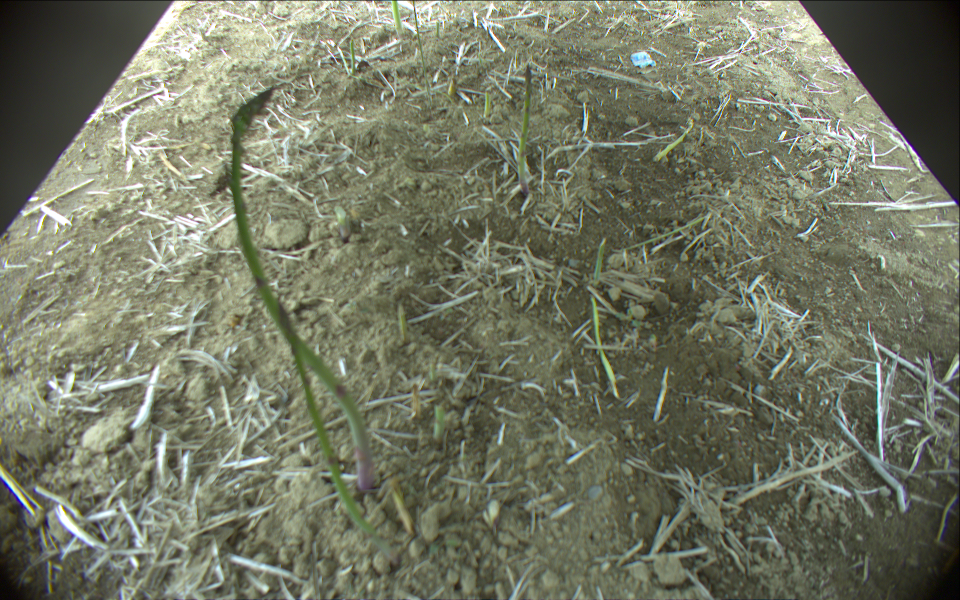aspa: (231, 87, 380, 490), (273, 300, 397, 566), (591, 234, 621, 399), (408, 1, 434, 101), (516, 61, 534, 195), (655, 118, 694, 159), (392, 1, 405, 36), (337, 46, 350, 77), (483, 89, 492, 121), (351, 35, 357, 77)
